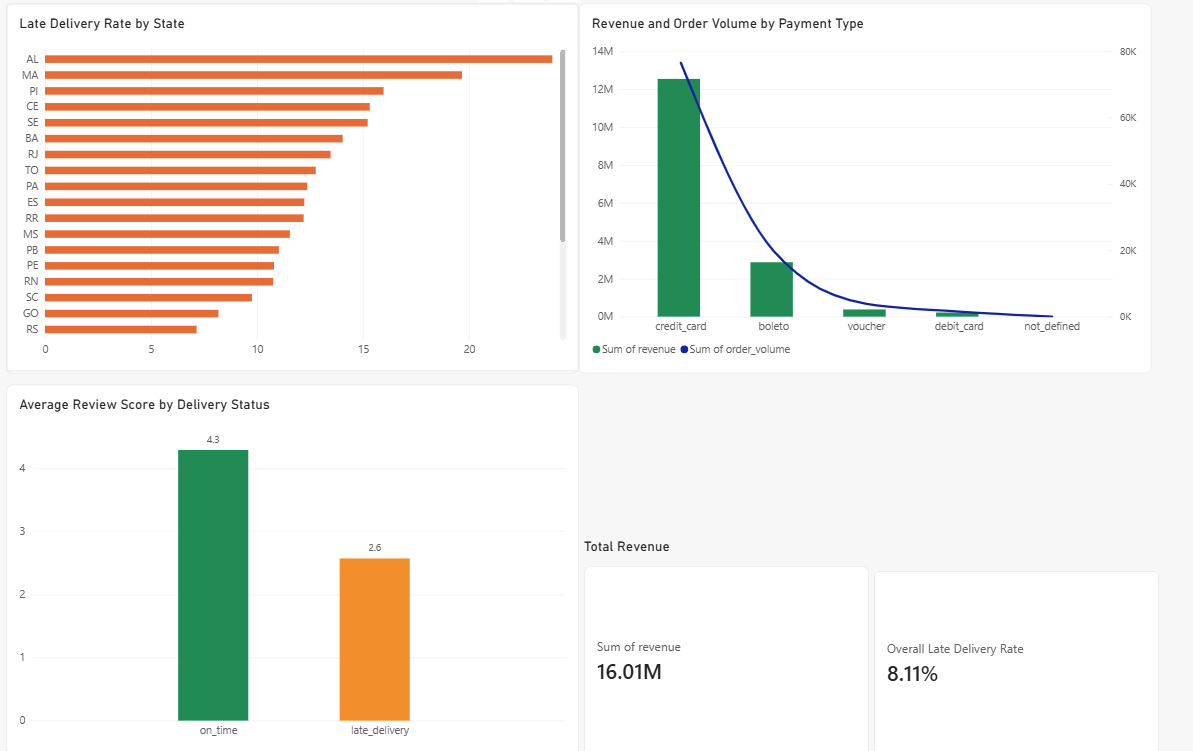

The page's visual inventory and layout, read from the dashboard file:
{"tool":"powerbi","page":{"name":"Delivery & Payments ","canvas":[1920,1080],"ordinal":1},"visuals":[{"type":"clusteredBarChart","title":"Late Delivery Rate by State","fields":{"Category":["delivery_performance_by_state.customer_state"],"Y":["Sum(delivery_performance_by_state.late_delivery_rate)"]},"box":[10.3,88.5,755.4,487.8],"z":0},{"type":"clusteredColumnChart","title":"Average Review Score by Delivery Status","fields":{"Category":["delivery_review_comparison.delivery_status"],"Y":["Sum(delivery_review_comparison.avg_review_score)"]},"box":[10.3,592.8,755,488],"z":1000},{"type":"lineClusteredColumnComboChart","title":"Revenue and Order Volume by Payment Type","fields":{"Category":["payment_type_performance.payment_type"],"Y":["Sum(payment_type_performance.revenue)"],"Y2":["Sum(payment_type_performance.order_volume)"]},"box":[765.7,88.5,755,488],"z":2000},{"type":"cardVisual","title":"Total Revenue","fields":{"Data":["Sum(payment_type_performance.revenue)"]},"box":[771.9,794.5,376.7,286.1],"z":3000},{"type":"cardVisual","fields":{"Data":["delivery_performance_by_state.Overall Late Delivery Rate"]},"box":[1154.7,837.7,376.7,242.9],"z":4000}]}

Visuals, with their boxes on the page's 1920x1080 design canvas (x1, y1, x2, y2). These are canvas units, not pixel positions in the 1193x751 screenshot, which may show the page scaled, cropped or inside an application window:
"Late Delivery Rate by State" clusteredBarChart: locate(10, 88, 766, 576)
"Average Review Score by Delivery Status" clusteredColumnChart: locate(10, 593, 765, 1081)
"Revenue and Order Volume by Payment Type" lineClusteredColumnComboChart: locate(766, 88, 1521, 576)
"Total Revenue" cardVisual: locate(772, 794, 1149, 1081)
cardVisual - delivery_performance_by_state.Overall Late Delivery Rate: locate(1155, 838, 1531, 1081)
